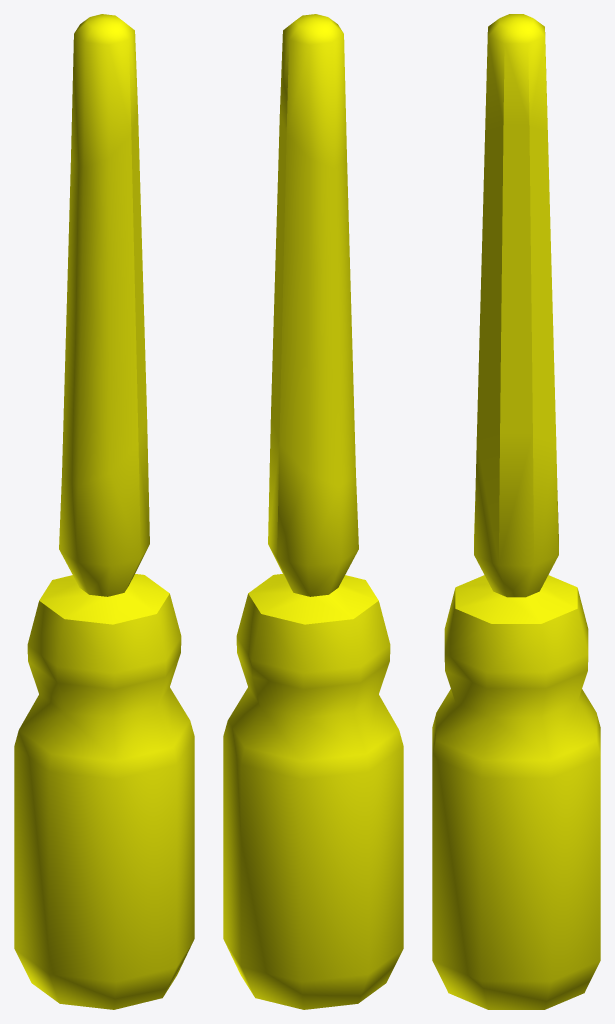
File: kaykit-file.glb
3 views of the same model, side by side, from view 1: azimuth 30°, elevation 25°; view 2: azimuth 150°, elevation 25°; view 3: azimuth 270°, elevation 25° (orthographic).
Parts seen in each view (by area): view 1: file; view 2: file; view 3: file.
Part boxes in pixels (<box>): file: <box>14,14,194,1009</box>; file: <box>223,14,403,1009</box>; file: <box>432,14,600,1009</box>.
Bounding box in the file's own units: 0.1513 × 0.9703 × 0.1513.
